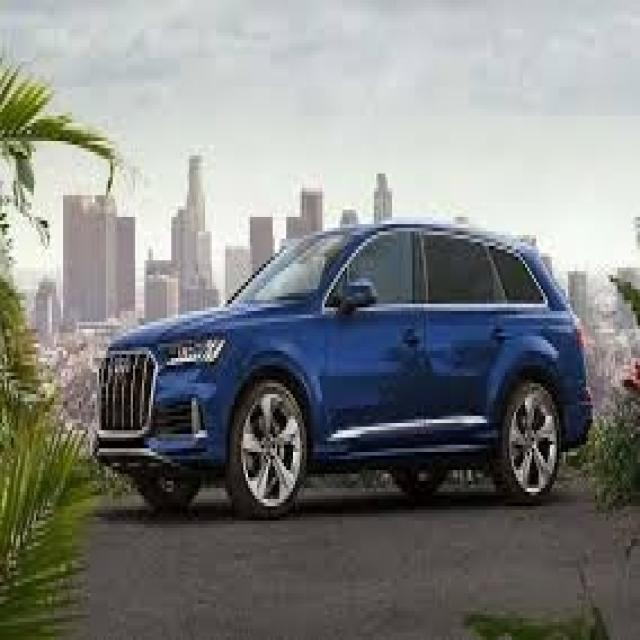blue: (84, 206, 616, 514)
